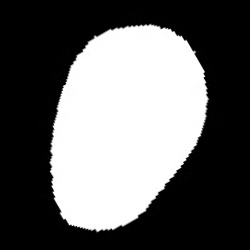spot: (51, 25, 210, 230)
